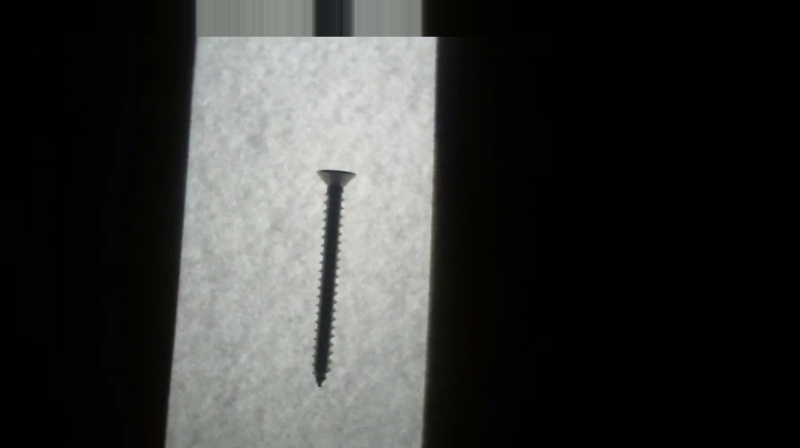S002: (308, 165, 359, 390)
